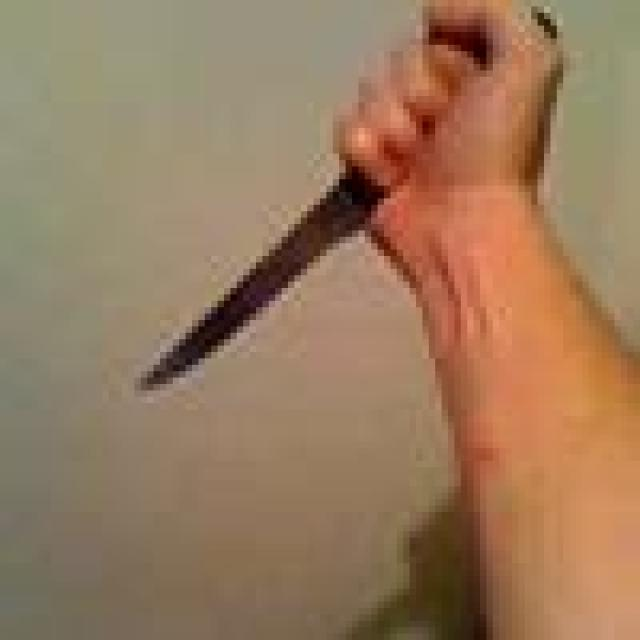Knife: (122, 0, 563, 403)
